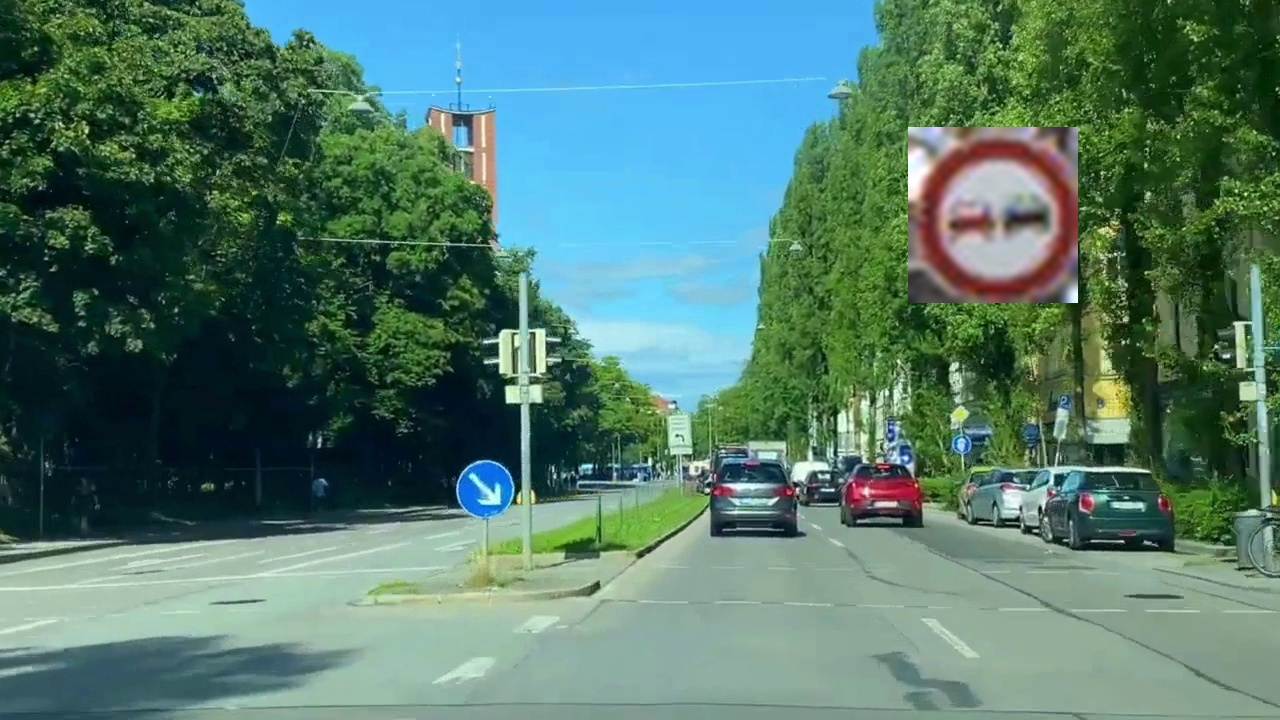No passing: (908, 127, 1078, 303)
